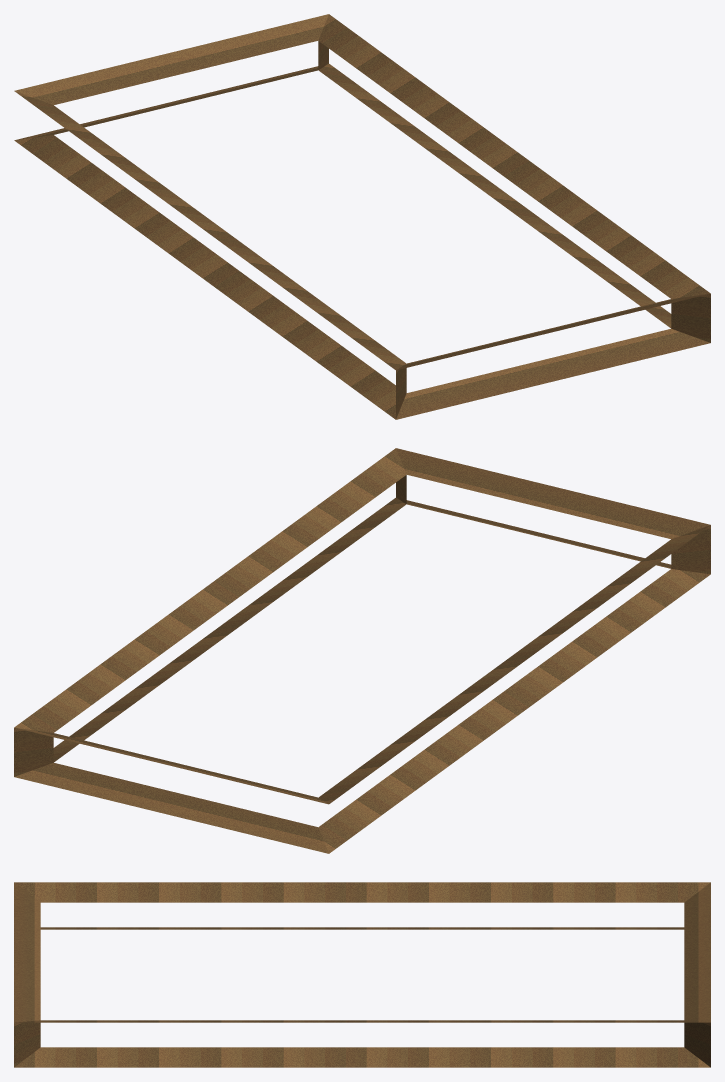
3 renders of one model, top to bottom at view 1: azimuth 30°, elevation 25°; view 2: azimuth 150°, elevation 25°; view 3: azimuth 270°, elevation 25°, orthographic. The views are drawn at different scales.
Visible parts, largest first — view 1: door_residential_lod0_run001; view 2: door_residential_lod0_run001; view 3: door_residential_lod0_run001.
Boxes of the visible parts, x1,y1,x2,y2 form: door_residential_lod0_run001: (14,14,710,419); door_residential_lod0_run001: (14,448,710,853); door_residential_lod0_run001: (14,882,710,1067).
Bounding box in the file's own units: 1 × 0.15 × 2.1.
Materials: 1 (1 with a texture image).
